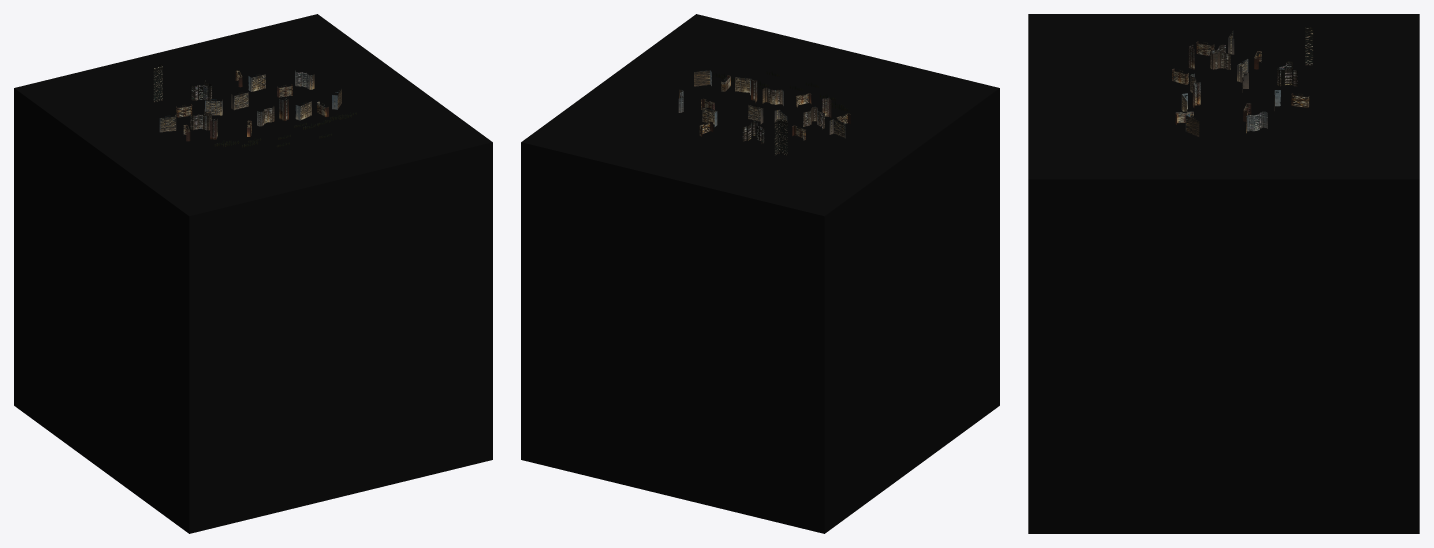
The model's file is citygroundfloor.dae.
3 renders of one model, left to right at view 1: azimuth 30°, elevation 25°; view 2: azimuth 150°, elevation 25°; view 3: azimuth 270°, elevation 25°, orthographic. The views are drawn at different scales.
Parts seen in each view (by area): view 1: Cube, b2, b1, b3; view 2: Cube, b2, b1, b3; view 3: Cube, b2, b1, b3.
Part boxes in pixels (<box>): Cube: <box>14,14,492,533</box>; b2: <box>153,64,314,132</box>; b1: <box>183,89,341,141</box>; b3: <box>176,70,242,117</box>; Cube: <box>521,14,999,533</box>; b2: <box>678,89,845,155</box>; b1: <box>694,69,850,123</box>; b3: <box>699,121,805,143</box>; Cube: <box>1028,14,1419,533</box>; b2: <box>1210,27,1313,133</box>; b1: <box>1172,41,1214,136</box>; b3: <box>1254,51,1309,107</box>.
Bounding box in the file's own units: 50.34 × 50.34 × 56.22.
Materials: 5 (5 with a texture image).
